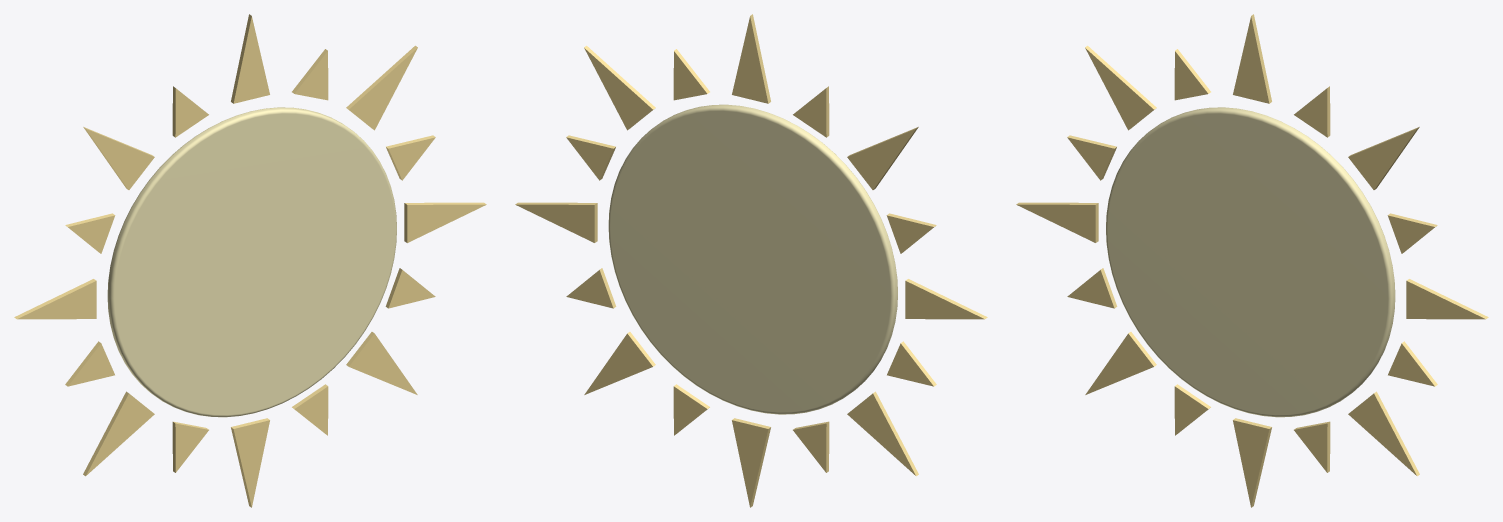
File: ParasolPlummetSun.glb
3 views of the same model, side by side, from view 1: azimuth 30°, elevation 25°; view 2: azimuth 150°, elevation 25°; view 3: azimuth 330°, elevation 25° (orthographic).
Parts seen in each view (by area): view 1: Sun, Rays; view 2: Sun, Rays; view 3: Sun, Rays.
Boxes of the visible parts, x1,y1,x2,y2 form: Sun: (107, 107, 396, 417); Rays: (14, 14, 486, 507); Sun: (608, 104, 897, 414); Rays: (515, 14, 987, 507); Sun: (1106, 107, 1395, 417); Rays: (1016, 14, 1488, 507).
Size of the model in its own units: 59 by 59 by 1.3.
